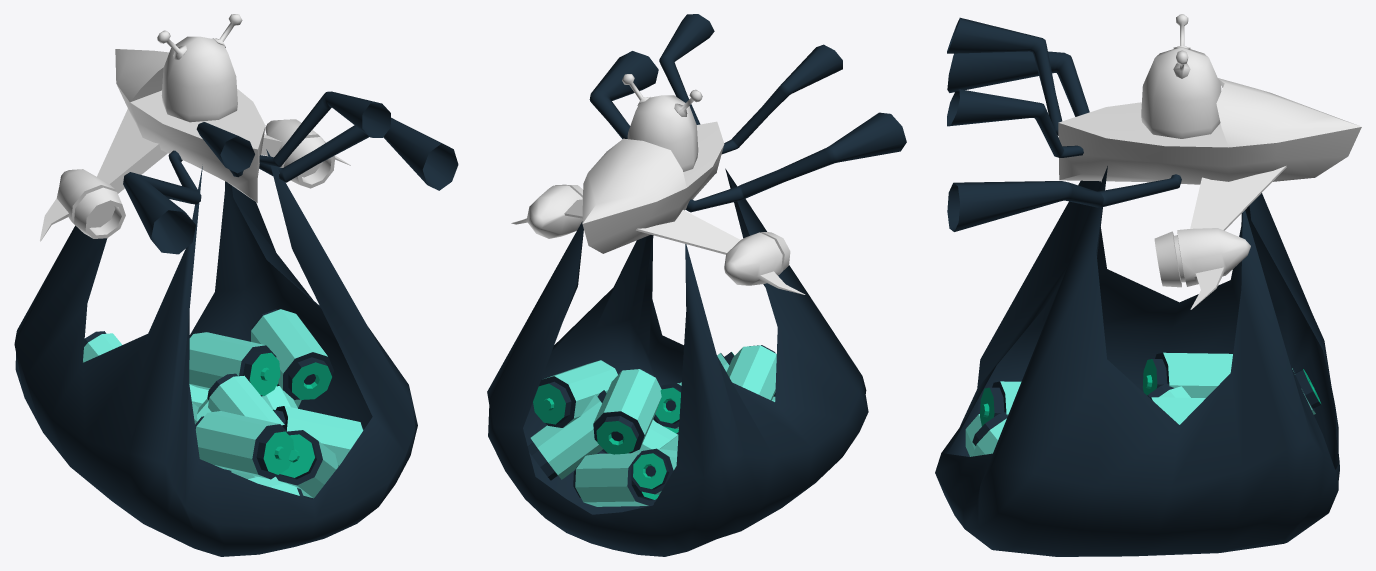
File: Enemy_Antagonist.fbx
3 renders of one model, left to right at view 1: azimuth 30°, elevation 25°; view 2: azimuth 150°, elevation 25°; view 3: azimuth 270°, elevation 25°, orthographic. The views are drawn at different scales.
Parts seen in each view (by area): view 1: BatteryBunch, Ship, Exhaust, Head; view 2: BatteryBunch, Ship, Exhaust, Head; view 3: BatteryBunch, Ship, Exhaust, Head.
Part boxes in pixels (box(x1,y1,x2,y2)): BatteryBunch: box(14, 149, 417, 556); Ship: box(40, 49, 350, 241); Exhaust: box(123, 91, 458, 254); Head: box(157, 14, 242, 122); BatteryBunch: box(487, 168, 868, 556); Ship: box(511, 121, 805, 294); Exhaust: box(589, 14, 906, 212); Head: box(622, 74, 702, 171); BatteryBunch: box(935, 166, 1339, 556); Ship: box(1058, 78, 1361, 309); Exhaust: box(947, 17, 1181, 231); Head: box(1141, 14, 1221, 138).
Bounding box in the file's own units: 859 × 1227 × 959.
